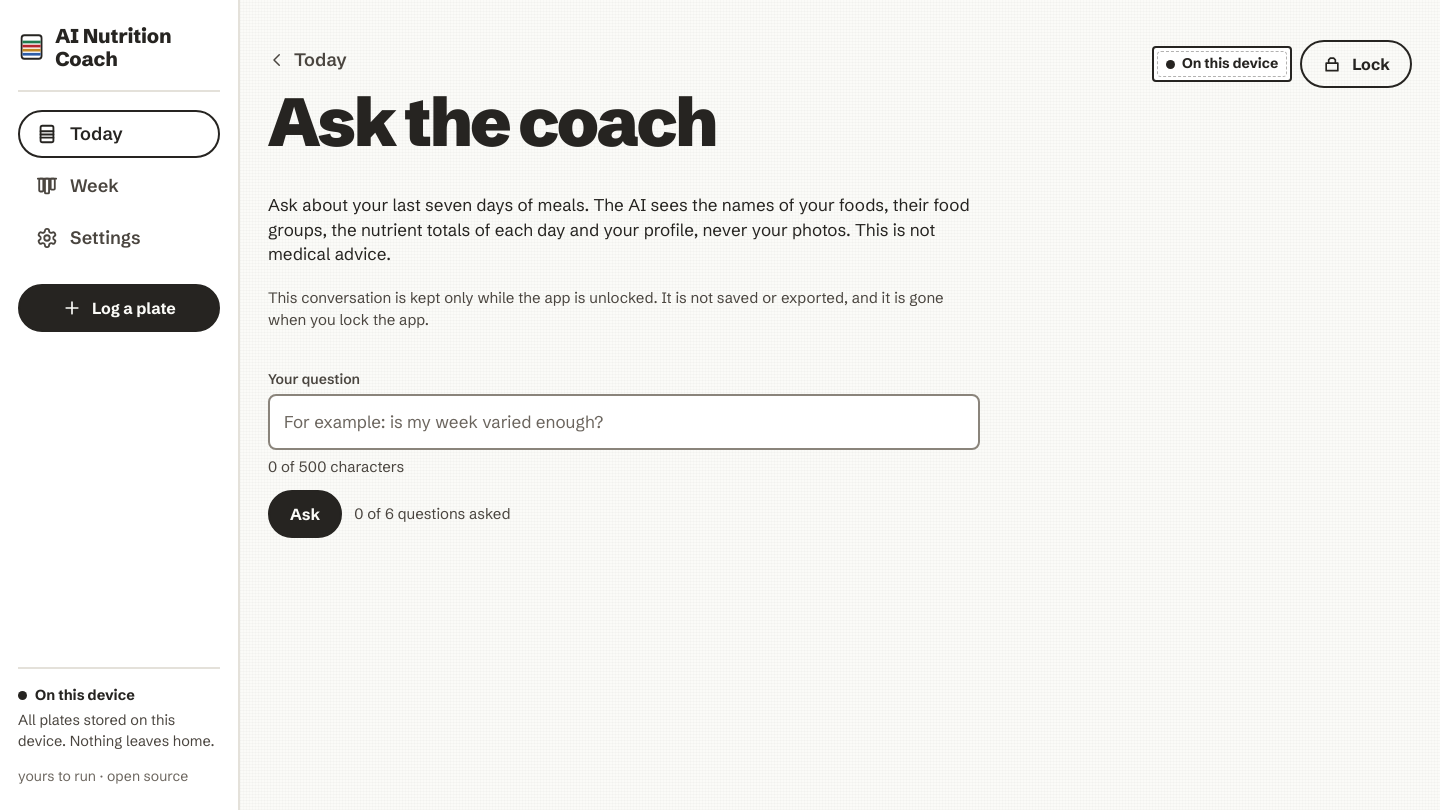
Test case: Ask the coach: the chat › asks a question, shows the answer marked as AI-written, and sends the week with it
The image size is (1440, 810).
Expected: the heading "Ask the coach" is shown, [268, 92, 715, 153]
Type "Is my week varied?" into the field labelled "Your question" at x=624, y=422, box [270, 396, 978, 448]
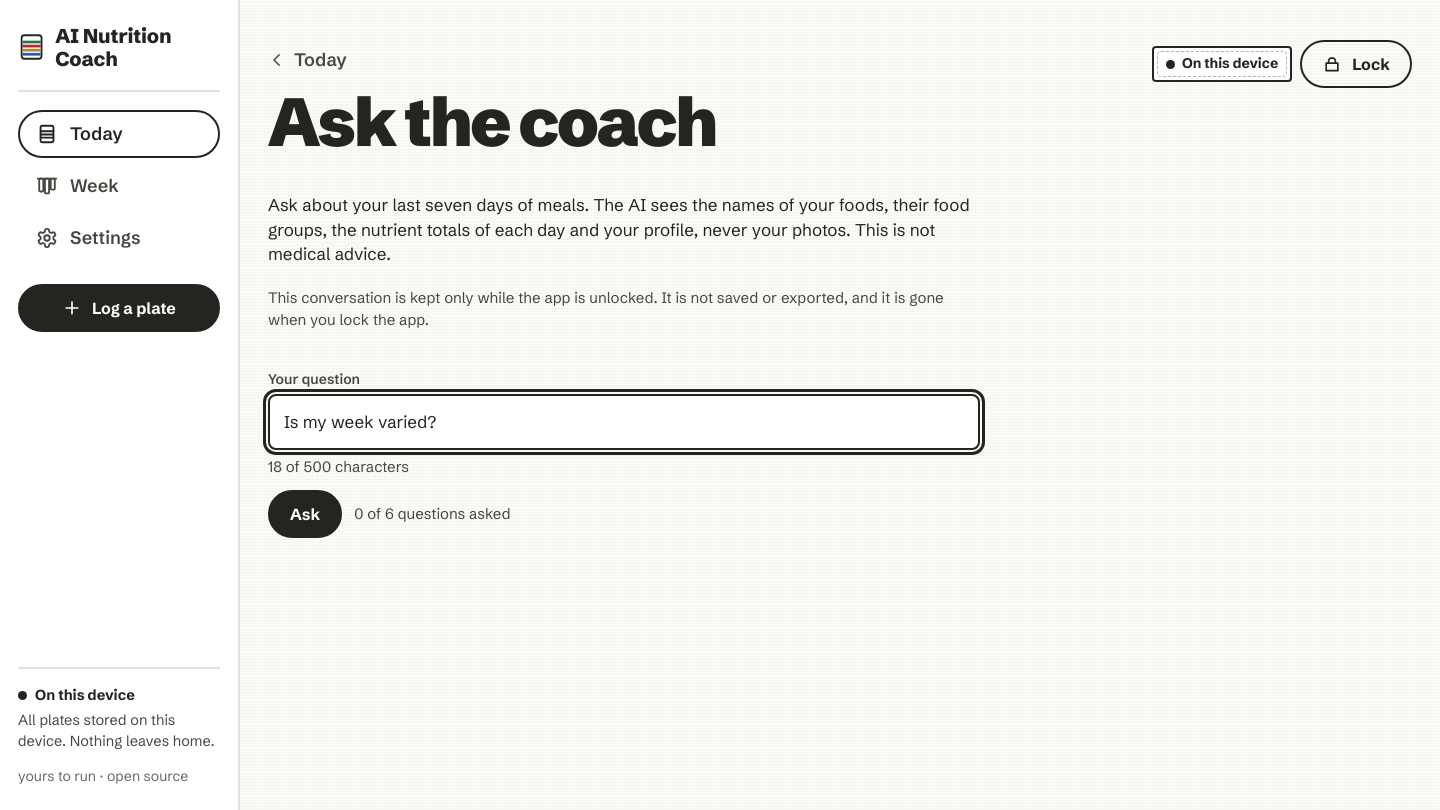
Click the button "Ask" at x=305, y=514, box [268, 490, 342, 538]
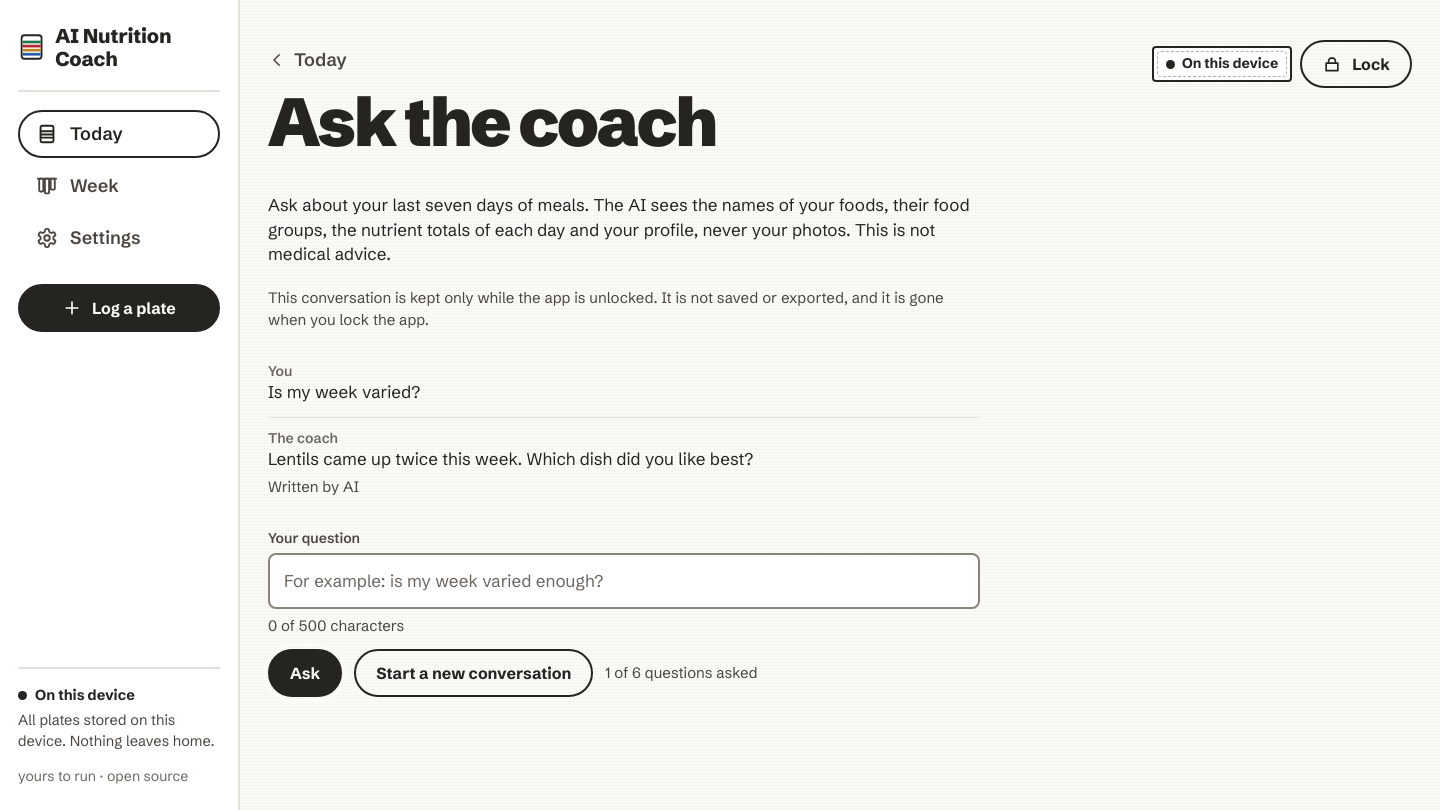
Expected: the text "Lentils came up twice this week. Which dish did you like best?" is shown, [268, 448, 753, 469]
Expected: the text "Is my week varied?" is shown, [268, 381, 420, 402]
Expected: the text "Written by AI" is shown, [268, 477, 359, 496]
